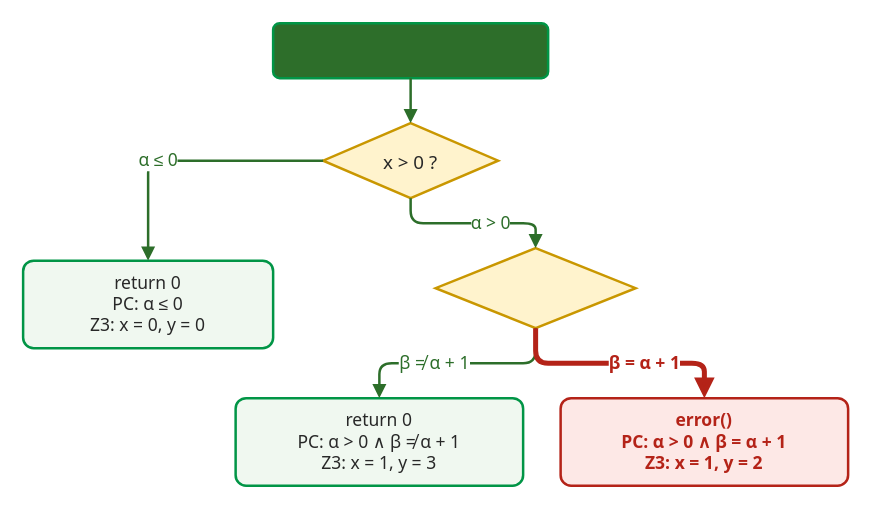
This 870x508 diagram has some shape labels left out. The centre of each missing label's shape, as x and y in pixels:
"start: x = α, y = β" belongs at point (410, 50).
"y == x + 1 ?" belongs at point (535, 287).
